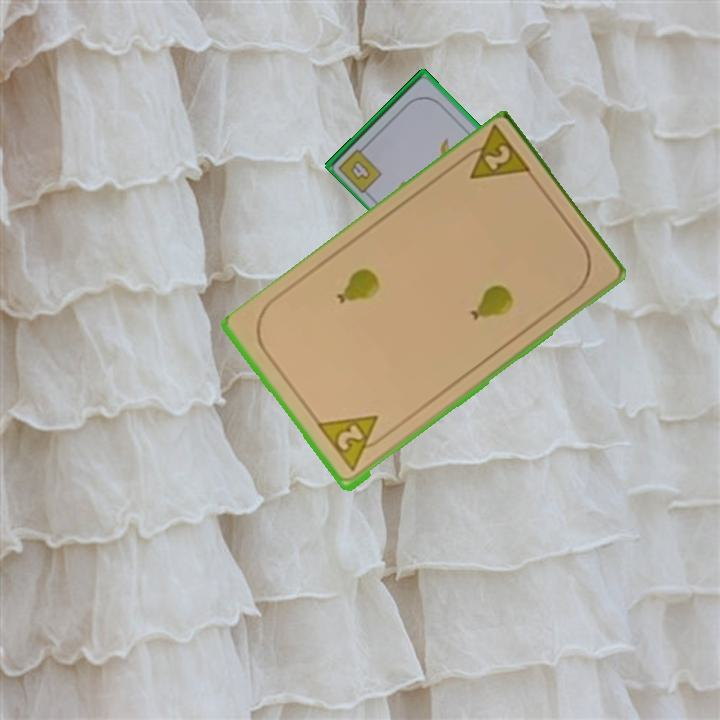2p: (314, 411, 391, 477), (453, 124, 536, 184)
4b: (335, 140, 385, 196)
